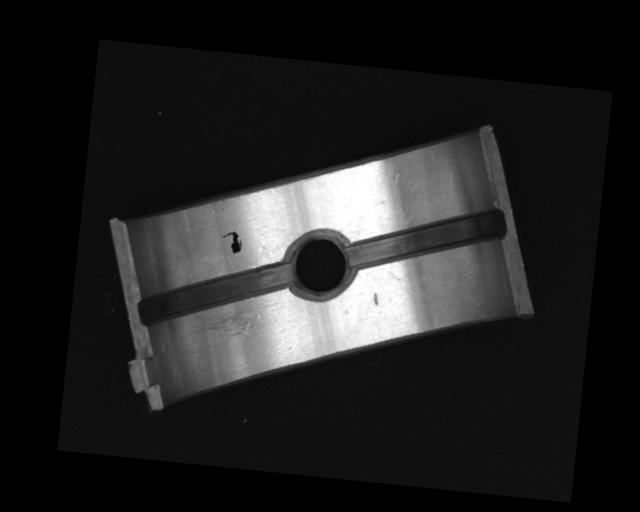blot: (220, 229, 244, 255)
bruise: (372, 291, 380, 306)
gap: (135, 246, 294, 339), (345, 195, 507, 283)
hole: (283, 229, 356, 297)
scratch: (187, 293, 270, 344)
